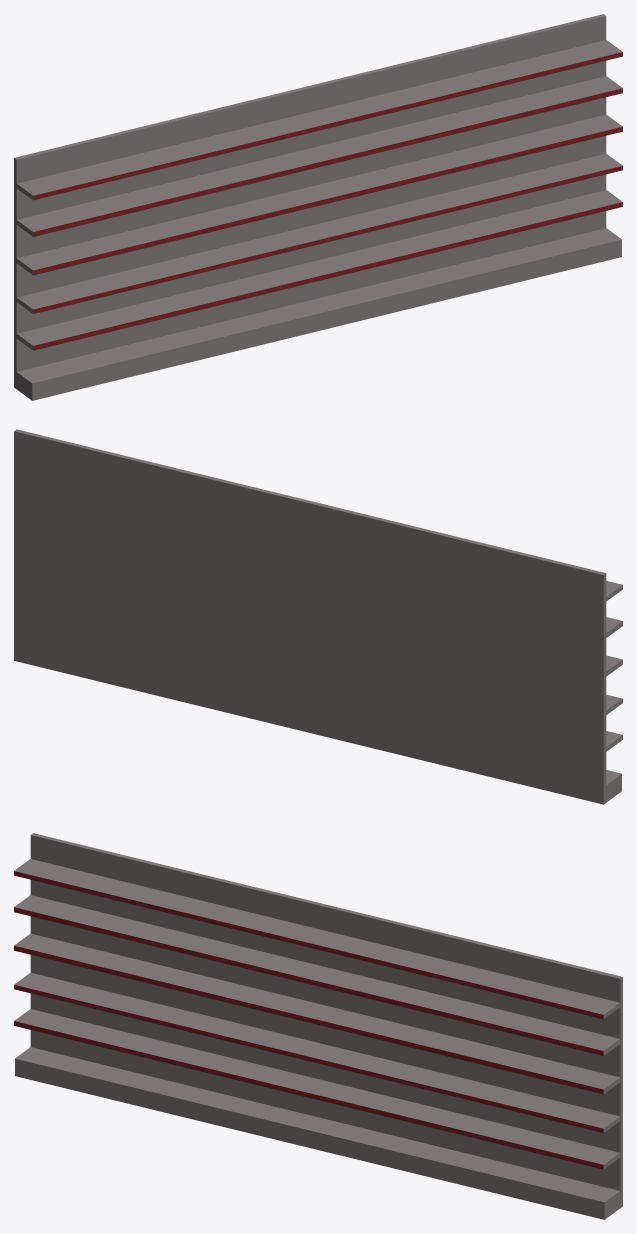
The model's file is gondola-pared.glb.
3 views of the same model, one above another, from view 1: azimuth 30°, elevation 25°; view 2: azimuth 150°, elevation 25°; view 3: azimuth 330°, elevation 25° (orthographic).
Parts seen in each view (by area): view 1: gondola-pared; view 2: gondola-pared; view 3: gondola-pared.
Part boxes in pixels (x1,y1,x2,y2): gondola-pared: (14, 14, 622, 400); gondola-pared: (14, 429, 622, 804); gondola-pared: (14, 833, 622, 1219).
Bounding box in the file's own units: 22.45 × 8.35 × 1.27.
Materials: 1 (1 with a texture image).
